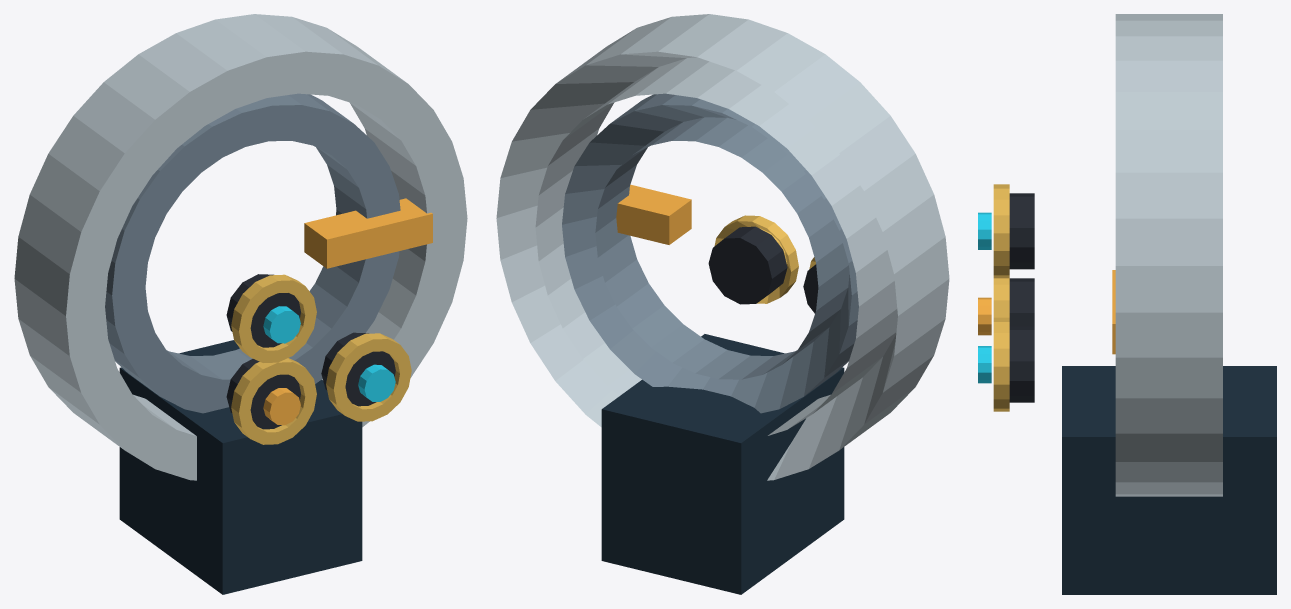
The model's file is 39_L82_CommonModeCurrentClamp.fbx.
3 views of the same model, side by side, from view 1: azimuth 30°, elevation 25°; view 2: azimuth 150°, elevation 25°; view 3: azimuth 270°, elevation 25° (orthographic). The views are drawn at different scales.
Visible parts, largest first — view 1: CommonModeCurrentClamp, CommonModeCurrentClamp_Part_0002, CommonModeCurrentClamp_Part_0003; view 2: CommonModeCurrentClamp, CommonModeCurrentClamp_Part_0002, CommonModeCurrentClamp_Part_0003; view 3: CommonModeCurrentClamp.
Boxes of the visible parts, <box> form: CommonModeCurrentClamp: <box>14,14,467,594</box>; CommonModeCurrentClamp_Part_0002: <box>105,93,400,413</box>; CommonModeCurrentClamp_Part_0003: <box>304,198,432,268</box>; CommonModeCurrentClamp: <box>496,14,949,594</box>; CommonModeCurrentClamp_Part_0002: <box>562,93,858,413</box>; CommonModeCurrentClamp_Part_0003: <box>616,184,691,244</box>; CommonModeCurrentClamp: <box>978,14,1276,594</box>.
Size of the model in its own units: 72 by 86 by 44.5.
